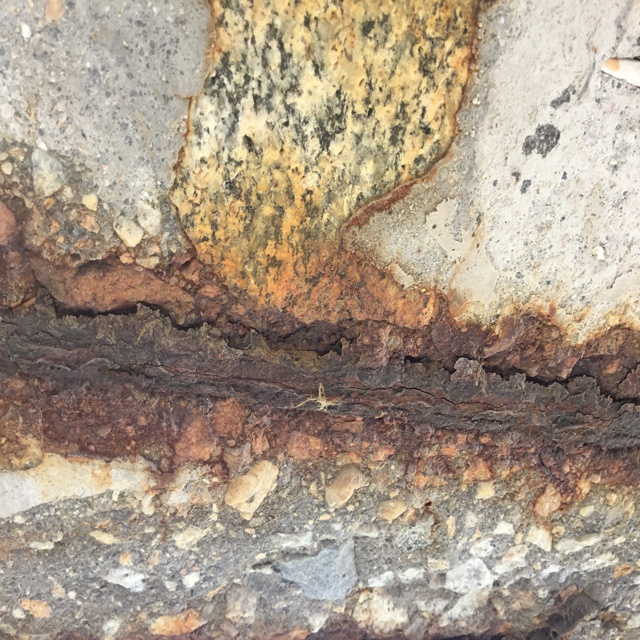rebar: (18, 307, 628, 451)
